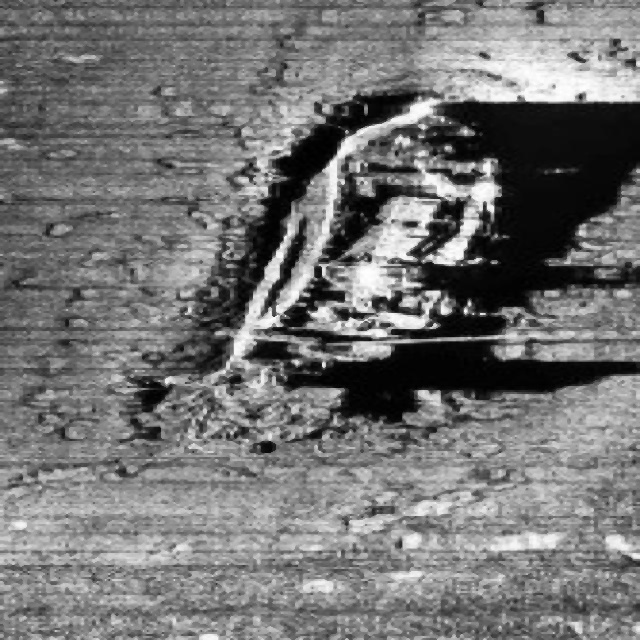Ship: (149, 70, 640, 490)
